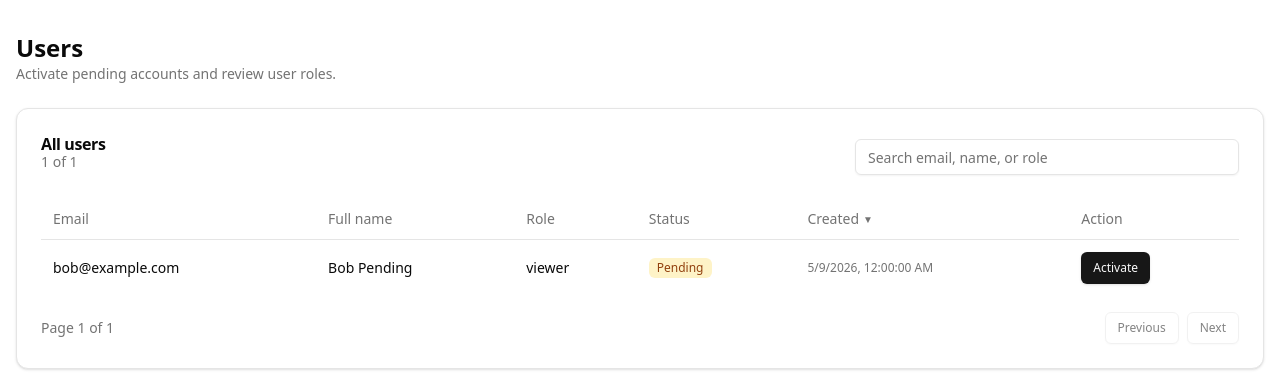
Test: AdminUsersPage › surfaces a destructive toast when activation fails
What coordinates should you click on to do the following:
click the button "Activate"
I would click on:
 (1116, 268)
Its box is [1081,252,1150,284].
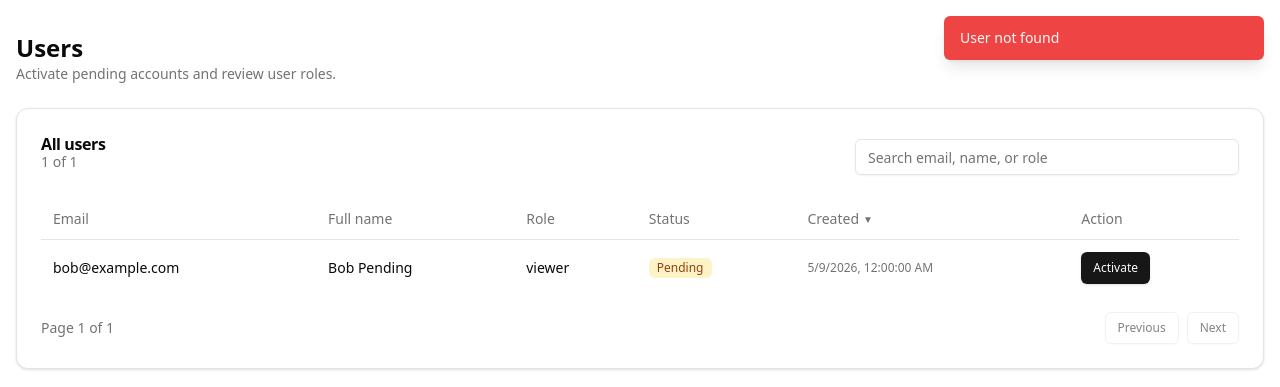
Check: the message with test id "toast-destructive" shows "not found", box [960,28,1059,47]
